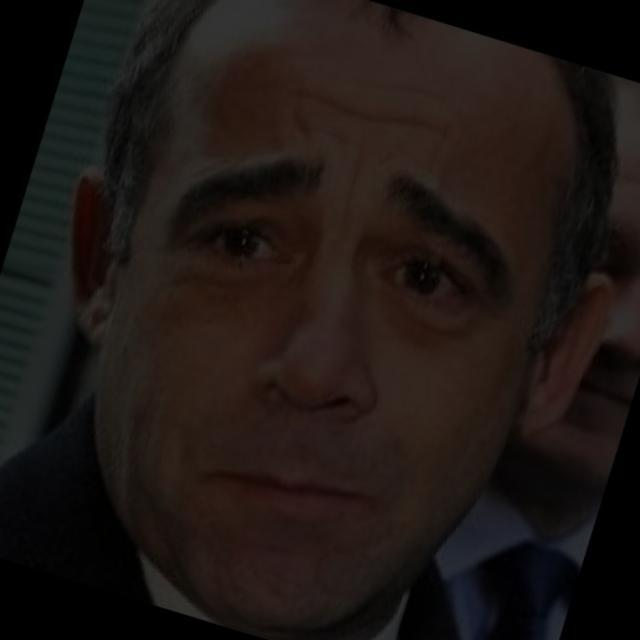Sad: (97, 90, 556, 632)
